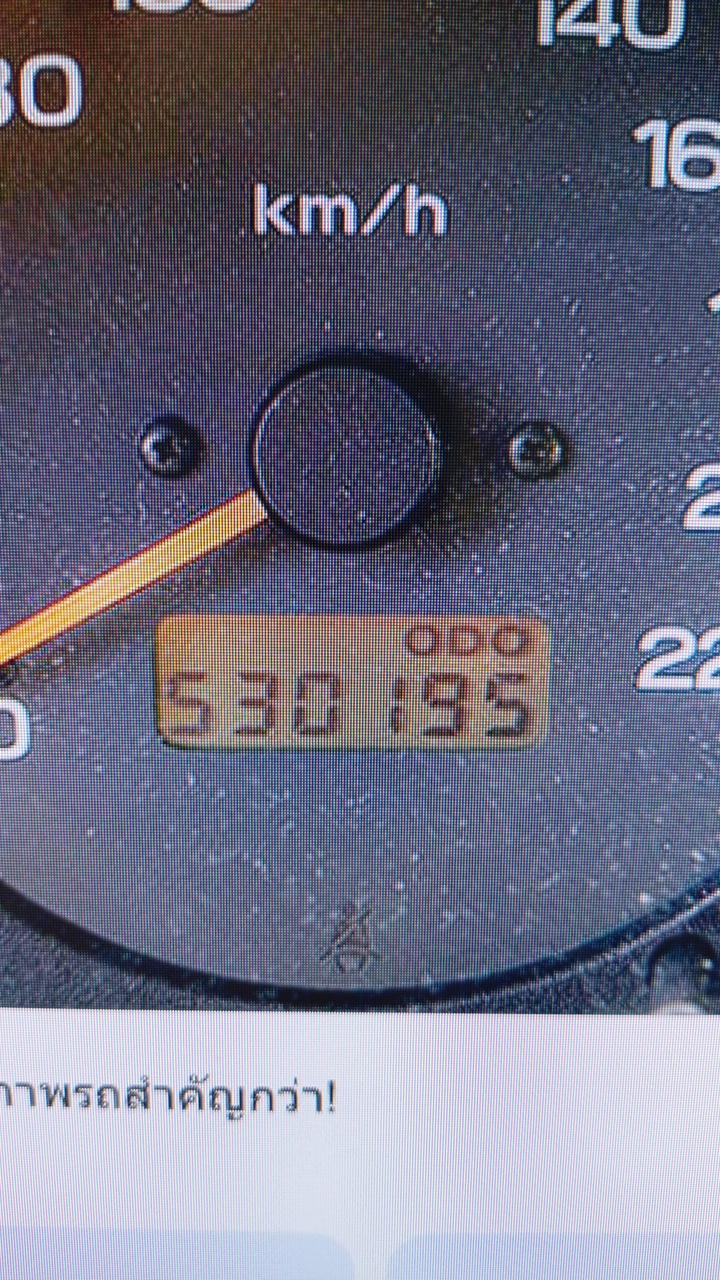odometer: (150, 605, 555, 758)
